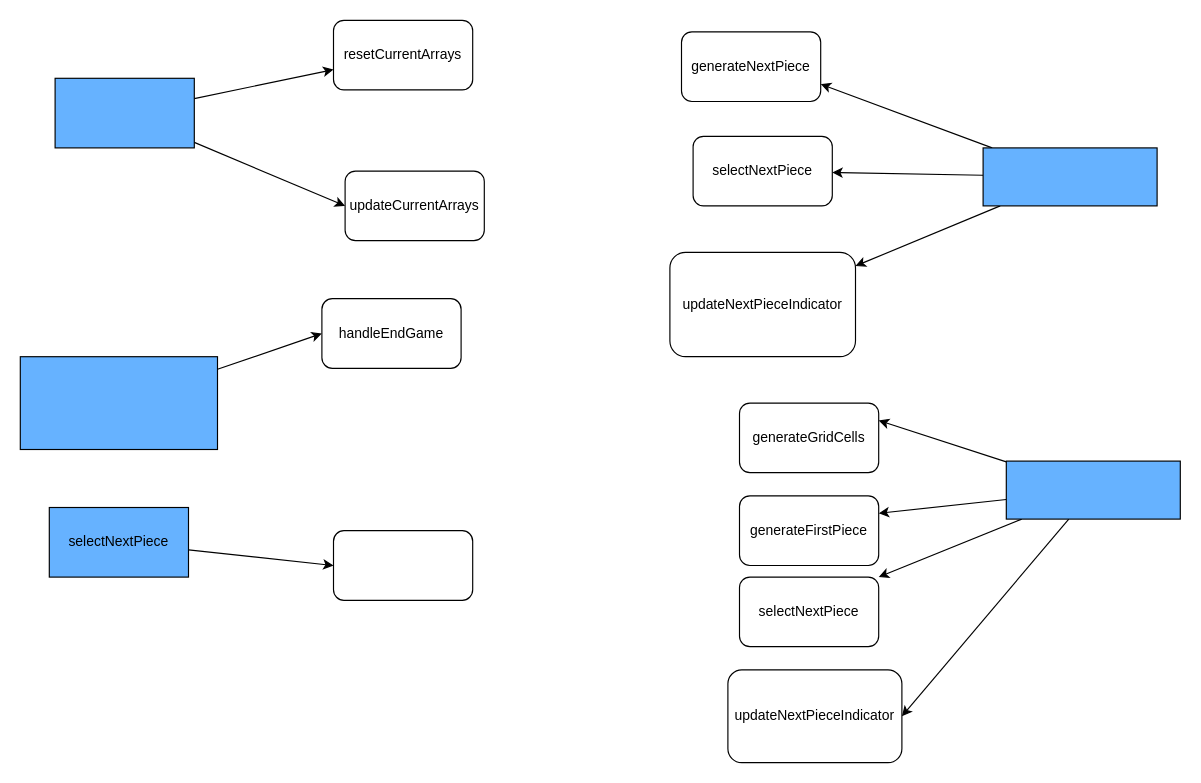
Some shapes in this 1201 by 783 pixel diagram are drawn without their labels. The centre of each missing label's shape, as x and y in pixels:
"fillSevenBag" goes at [402,565].
"GenerateTetrisPiece" goes at [124,112].
"generateUnblockedPiece" goes at [118,402].
"nextPieceLogic" goes at [1069,176].
"startGame" goes at [1092,489].
